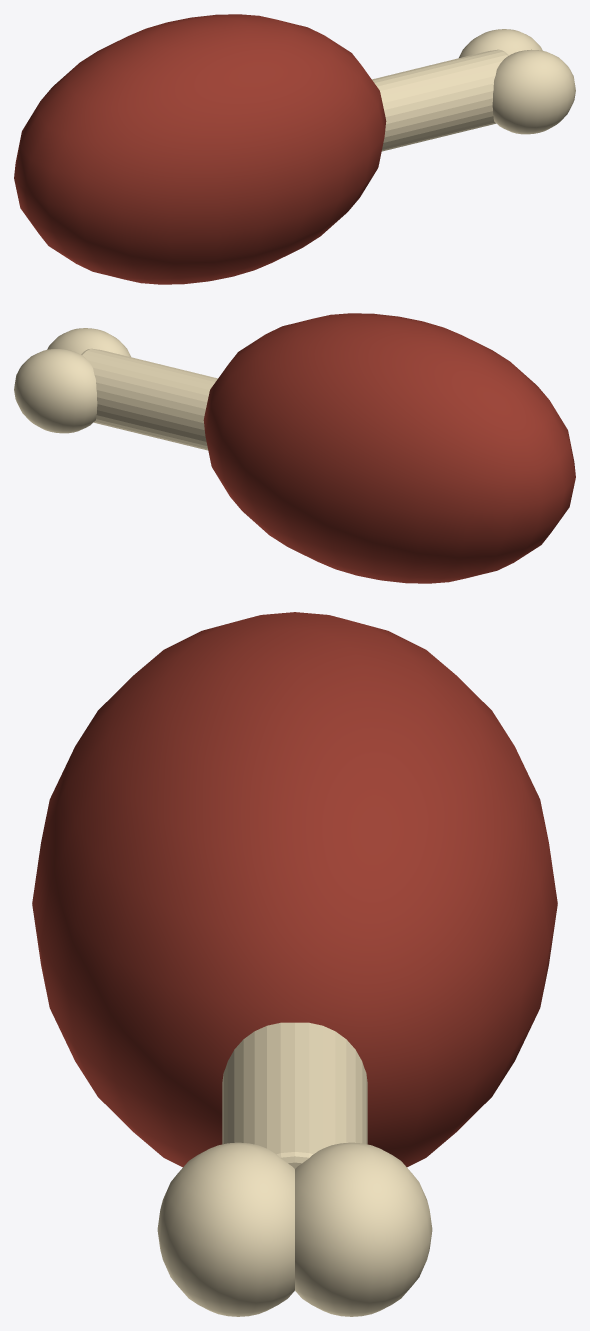
File: meat.fbx
3 renders of one model, top to bottom at view 1: azimuth 30°, elevation 25°; view 2: azimuth 150°, elevation 25°; view 3: azimuth 270°, elevation 25°, orthographic. The views are drawn at different scales.
Parts seen in each view (by area): view 1: SM_meat; view 2: SM_meat; view 3: SM_meat.
Part boxes in pixels (x1,y1,x2,y2): SM_meat: (14,14,575,284); SM_meat: (14,313,575,583); SM_meat: (32,612,557,1316).
Bounding box in the file's own units: 30.4 × 13 × 13.
